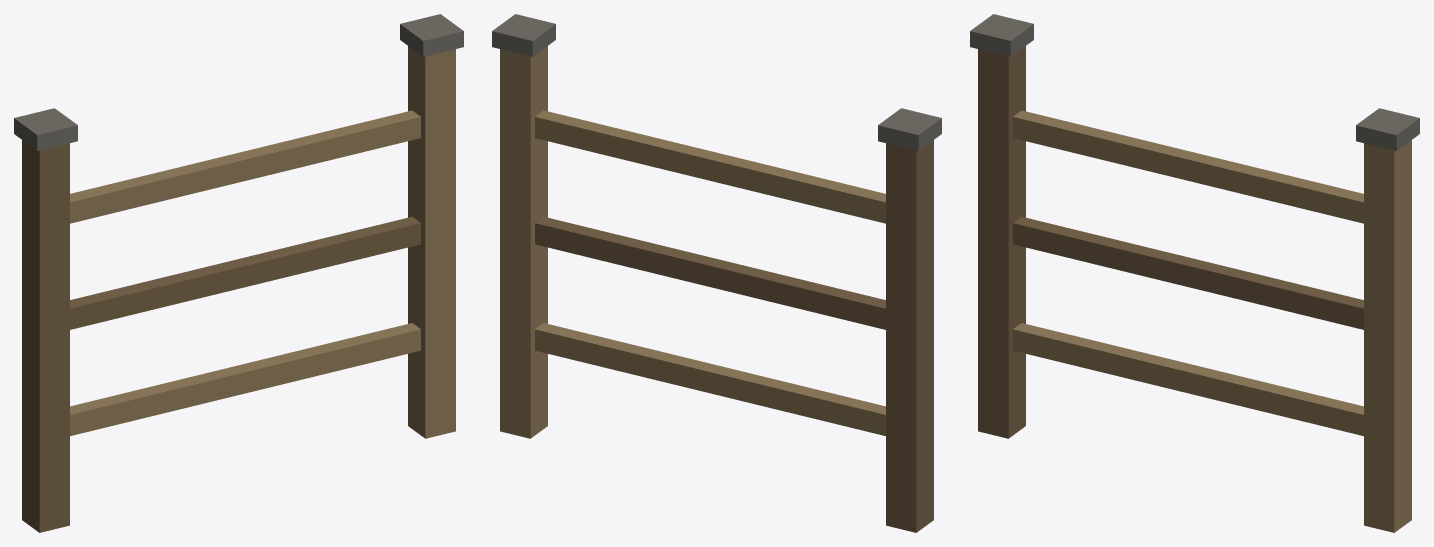
File: fence_section.glb
3 views of the same model, side by side, from view 1: azimuth 30°, elevation 25°; view 2: azimuth 150°, elevation 25°; view 3: azimuth 330°, elevation 25° (orthographic).
Parts seen in each view (by area): view 1: FencePost_0, FencePost_1, FenceRail_2, FenceRail_1, FenceRail_0, FenceCap_0, FenceCap_1; view 2: FencePost_0, FencePost_1, FenceRail_2, FenceRail_1, FenceRail_0, FenceCap_0, FenceCap_1; view 3: FencePost_1, FencePost_0, FenceRail_2, FenceRail_1, FenceRail_0, FenceCap_0, FenceCap_1.
Part boxes in pixels (x1=…): FencePost_0: x1=22, y1=140, x2=69, y2=532; FencePost_1: x1=408, y1=46, x2=455, y2=438; FenceRail_2: x1=70, y1=110, x2=420, y2=223; FenceRail_1: x1=70, y1=216, x2=420, y2=329; FenceRail_0: x1=70, y1=323, x2=420, y2=435; FenceCap_0: x1=14, y1=108, x2=77, y2=150; FenceCap_1: x1=400, y1=14, x2=463, y2=56; FencePost_0: x1=886, y1=140, x2=933, y2=532; FencePost_1: x1=500, y1=46, x2=547, y2=438; FenceRail_2: x1=535, y1=110, x2=885, y2=223; FenceRail_1: x1=535, y1=216, x2=885, y2=329; FenceRail_0: x1=535, y1=323, x2=885, y2=435; FenceCap_0: x1=878, y1=108, x2=941, y2=150; FenceCap_1: x1=492, y1=14, x2=555, y2=56; FencePost_1: x1=1364, y1=140, x2=1411, y2=532; FencePost_0: x1=978, y1=46, x2=1025, y2=438; FenceRail_2: x1=1013, y1=110, x2=1363, y2=223; FenceRail_1: x1=1013, y1=216, x2=1363, y2=329; FenceRail_0: x1=1013, y1=323, x2=1363, y2=435; FenceCap_0: x1=970, y1=14, x2=1033, y2=56; FenceCap_1: x1=1356, y1=108, x2=1419, y2=150.
Size of the model in its own units: 0.84 by 0.755 by 0.08.
